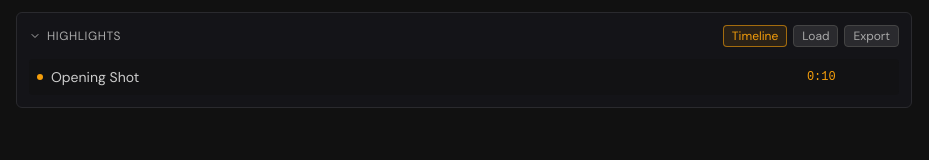
Test: HighlightList — collapsible › collapses when the header toggle is clicked while open
What coordinates should you click on to do the following:
click the button titled "Collapse"
I would click on:
 (75, 36)
Its box is left=29, top=28, right=121, bottom=44.
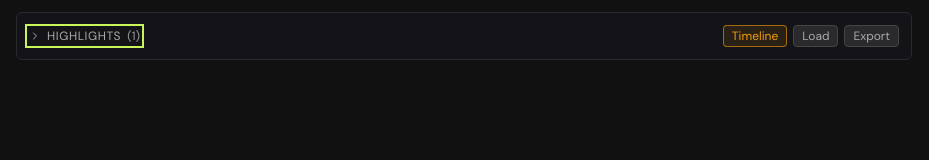
expect the button "Opening Shot" is gone: met
